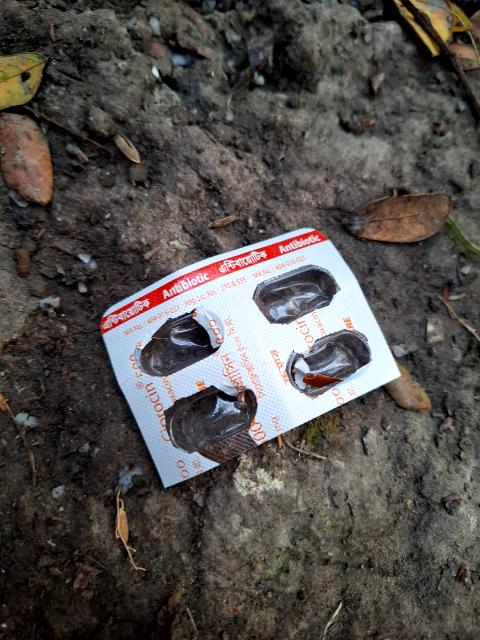medicine: (70, 193, 405, 505)
